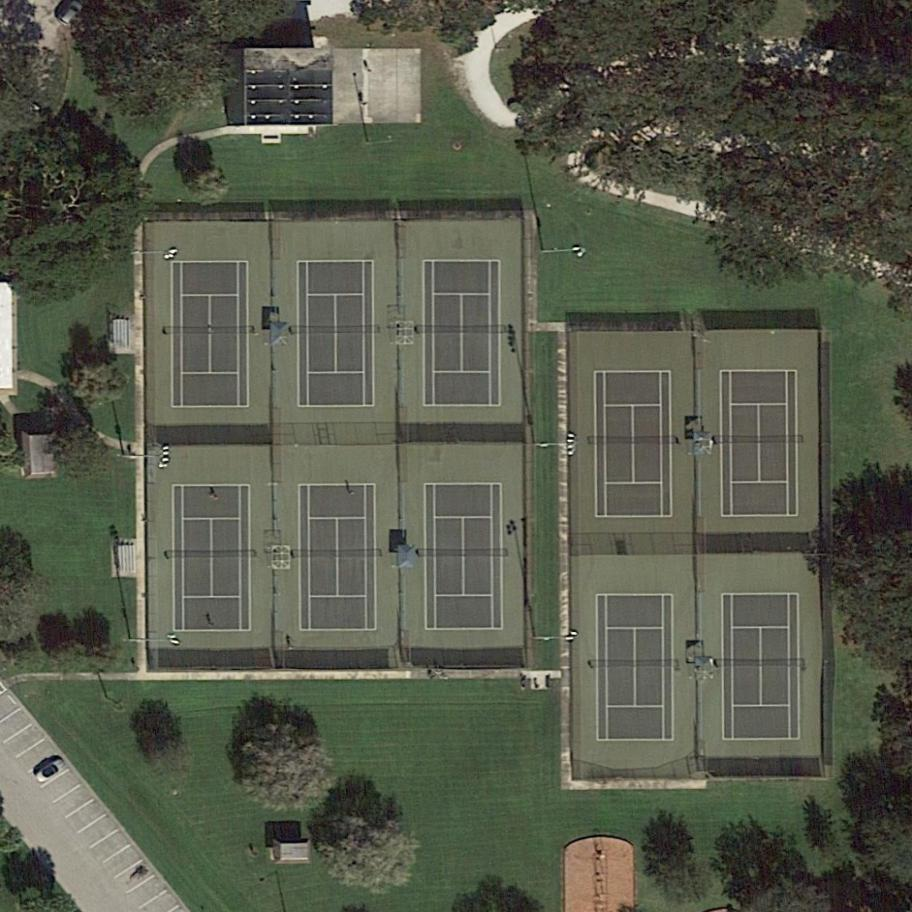small-vehicle: (28, 754, 71, 790), (56, 0, 82, 26)
